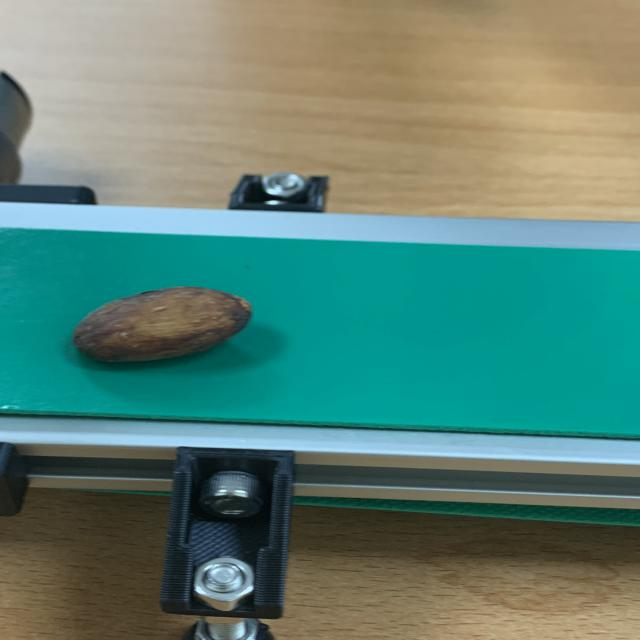Fine_cocoabeans: (0, 258, 390, 436)
